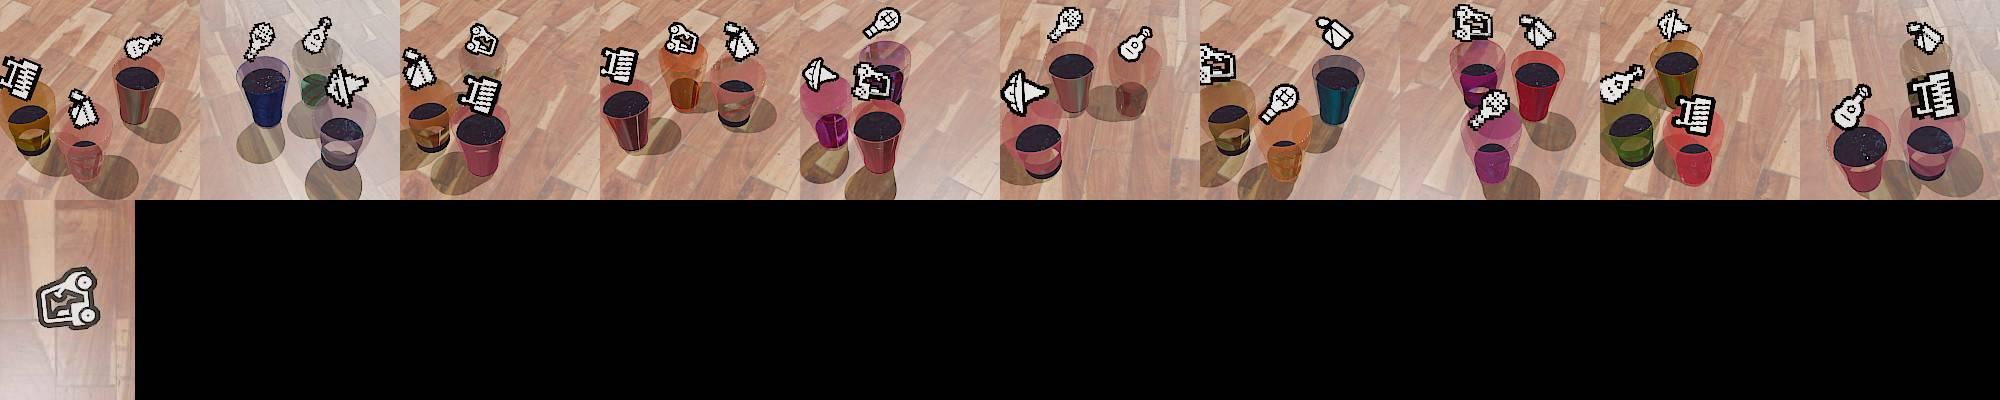icon: (34, 266, 101, 332), (1906, 68, 1959, 120), (1001, 68, 1051, 117), (1596, 62, 1645, 104), (459, 70, 504, 116), (325, 64, 370, 110), (0, 54, 42, 102), (1830, 83, 1872, 131), (1672, 93, 1716, 138), (851, 60, 898, 101), (1467, 88, 1511, 129), (1450, 3, 1492, 43), (599, 46, 640, 87), (1259, 84, 1300, 125), (1199, 42, 1235, 88), (722, 20, 760, 61), (1518, 13, 1556, 52), (1045, 6, 1084, 45), (402, 47, 437, 89), (1907, 19, 1946, 56), (800, 57, 841, 93), (1316, 15, 1353, 52), (1116, 25, 1153, 62), (244, 20, 276, 62), (464, 22, 500, 59), (663, 22, 702, 56), (66, 88, 99, 127), (1656, 8, 1693, 42), (862, 6, 901, 39), (302, 15, 333, 56), (124, 32, 162, 60)
